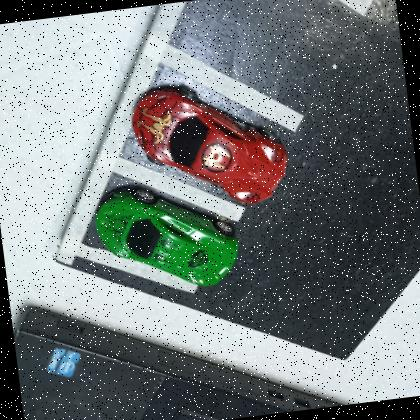Car: (126, 72, 294, 219), (89, 174, 244, 300)
